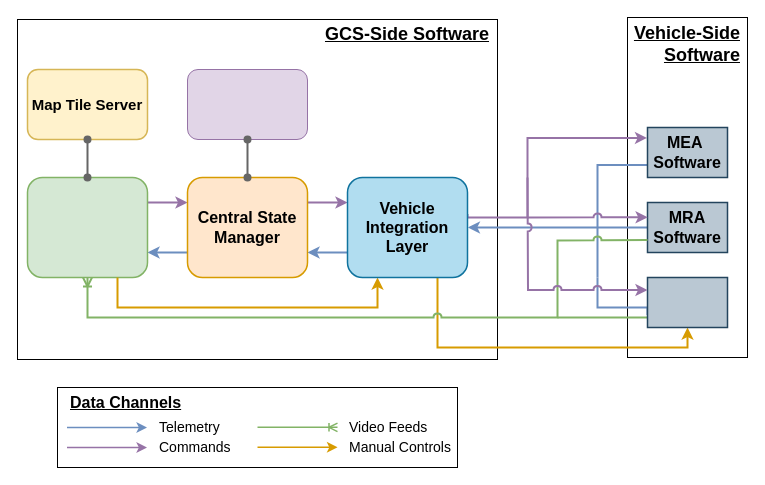
Image size: 765x485. Some labels were removed from this diagram. Each missing label, with the centre of its shape:
"Database" belongs at (247,104).
"ERU Software" belongs at (687,302).
"User Interface" belongs at (87,227).
